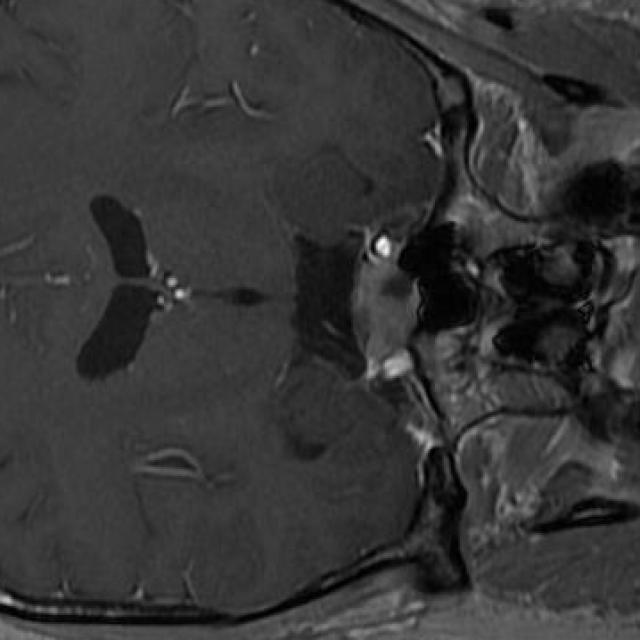pituitary: (353, 260, 421, 365)
